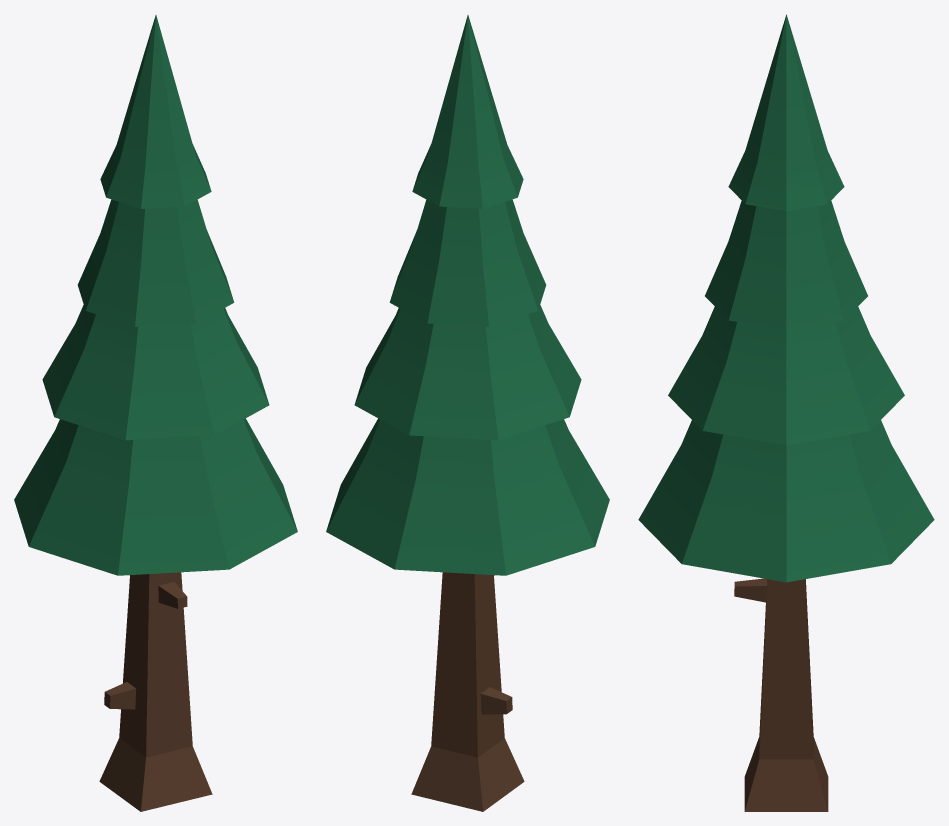
The model's file is halo_tree_pinedefaulta.obj.
The picture shows the model from 3 angles, left to right: view 1: azimuth 30°, elevation 25°; view 2: azimuth 150°, elevation 25°; view 3: azimuth 270°, elevation 25°; orthographic projection.
Parts seen in each view (by area): view 1: tree_pineDefaultA; view 2: tree_pineDefaultA; view 3: tree_pineDefaultA.
Boxes of the visible parts, x1,y1,x2,y2 form: tree_pineDefaultA: (14,15,297,811); tree_pineDefaultA: (326,15,609,811); tree_pineDefaultA: (638,14,934,811).
Bounding box in the file's own units: 0.532 × 1.55 × 0.532.
